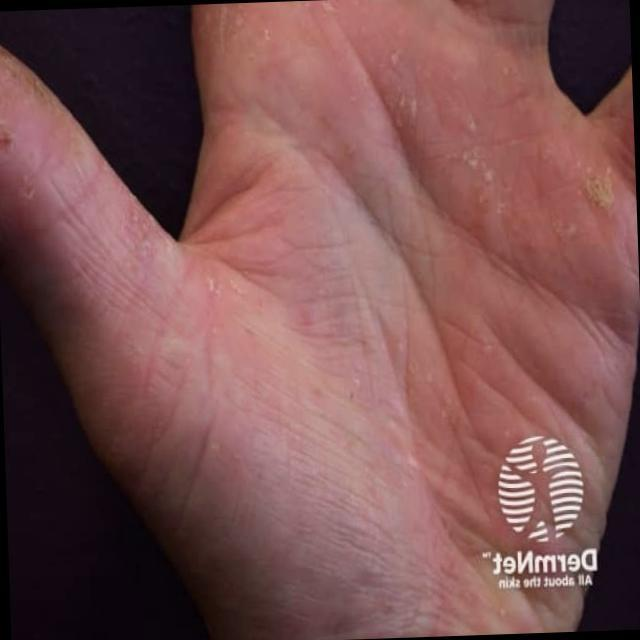Eczema: (245, 47, 616, 541)
